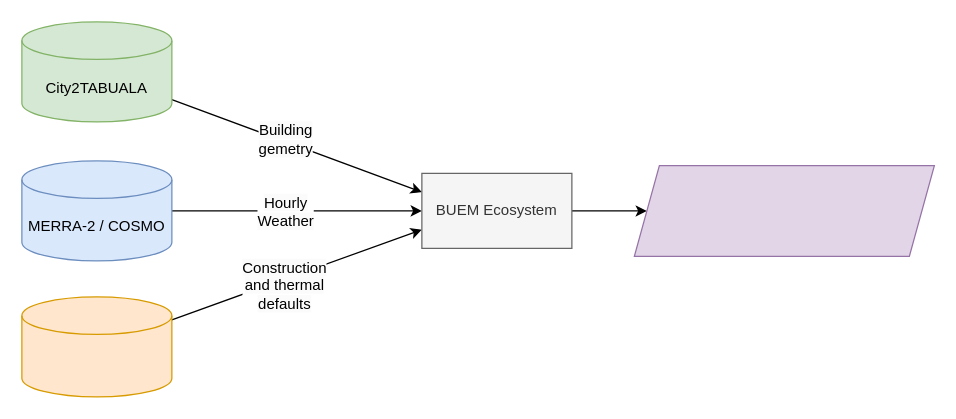
Some shapes in this 956 by 419 pixel diagram are drawn without their labels. Each missing label, with the centre of its shape:
Energy profiles + CSV outputs: [783,210]
TABULA: [96,346]
